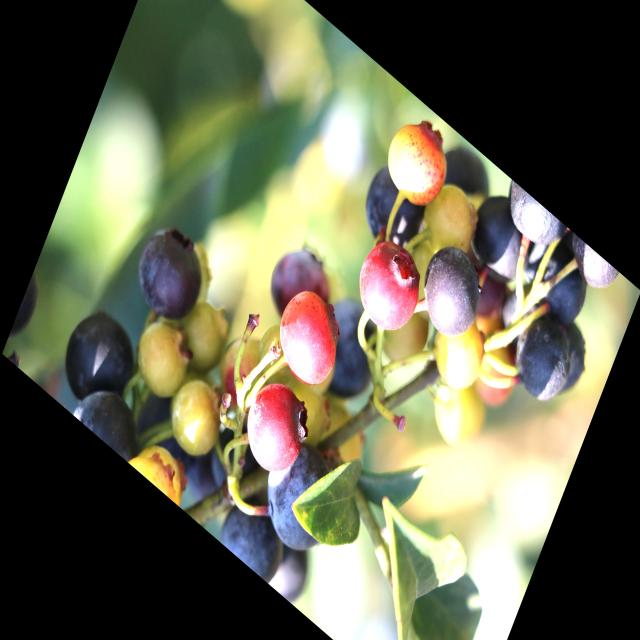blueberry: (246, 414, 359, 581), (299, 274, 402, 431), (49, 288, 151, 436), (125, 205, 220, 342), (455, 173, 547, 304), (125, 369, 216, 495), (196, 400, 284, 529), (408, 226, 494, 356), (351, 142, 438, 270), (499, 291, 584, 419), (513, 217, 601, 340), (213, 472, 299, 589), (69, 363, 152, 467), (535, 310, 601, 418), (428, 127, 501, 224), (494, 176, 570, 267), (178, 430, 246, 529), (489, 264, 546, 354), (262, 527, 321, 612), (559, 231, 623, 307), (7, 265, 52, 353)
blueberry-halfripe: (264, 274, 349, 402), (236, 369, 316, 488), (348, 227, 429, 344), (374, 110, 456, 224)
blueberry-unripe: (160, 368, 232, 471), (127, 304, 196, 406), (416, 171, 483, 269), (425, 301, 491, 400), (424, 366, 489, 459), (174, 286, 237, 380)
